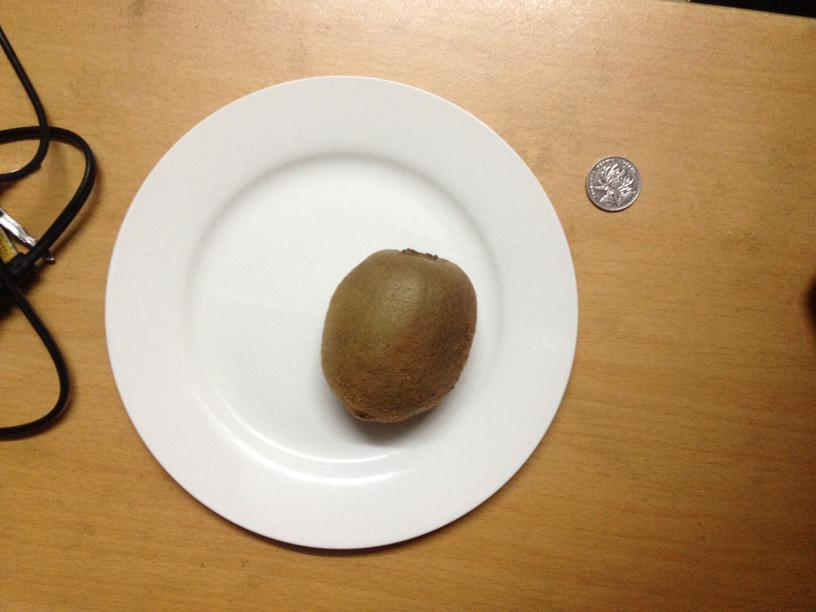coin: (585, 159, 641, 212)
qiwi: (324, 243, 479, 425)
